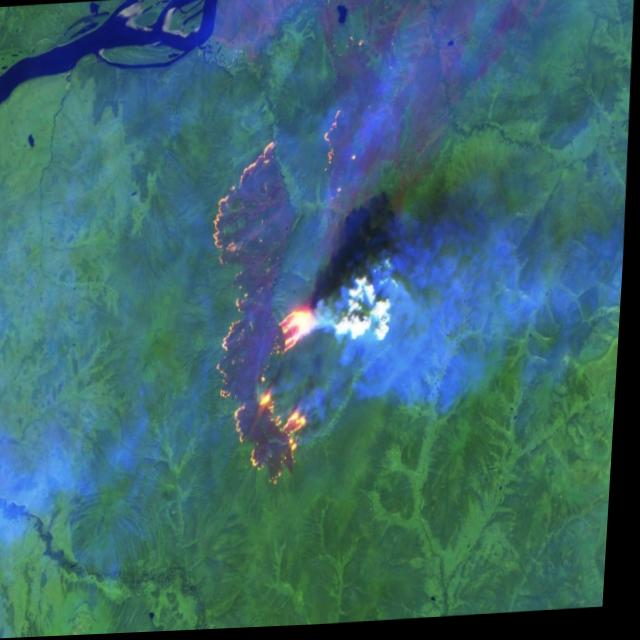fire: (193, 99, 364, 499)
